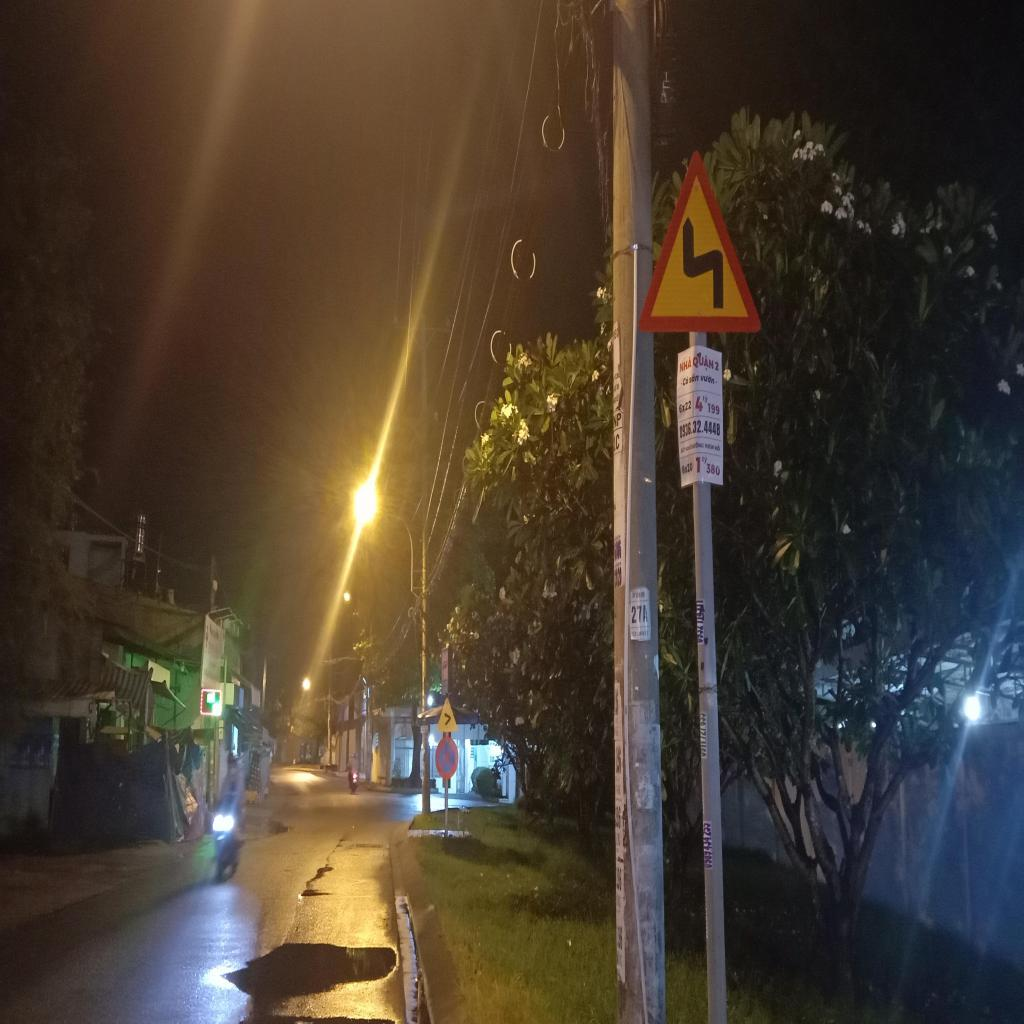cam_dung_xe_va_do_xe: (436, 736, 460, 779)
cho_ngoat_nguy_hiem_ben_trai: (436, 696, 458, 731)
cho_ngoat_nguy_hiem_lien_tiep: (636, 146, 762, 332)
